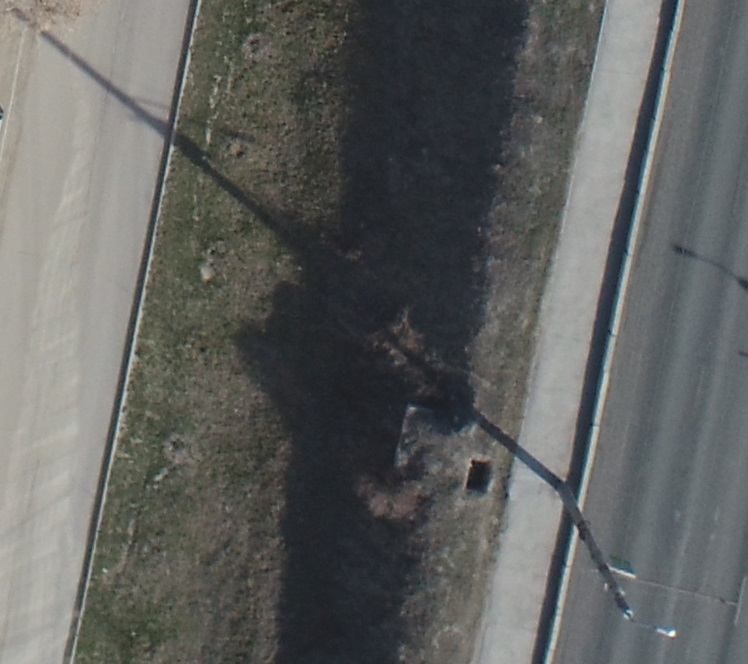opora: (521, 444, 679, 639)
